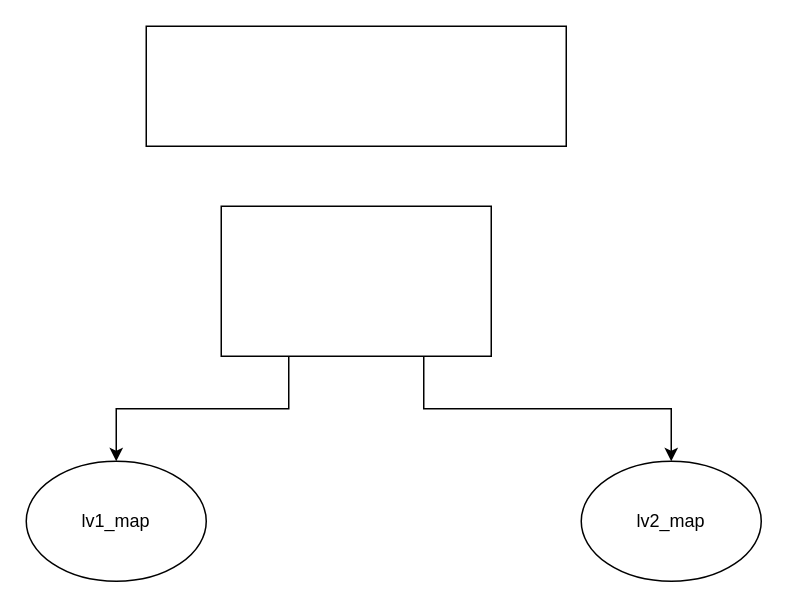
The diagram is 788 pixels wide and 608 high, and some of its shapes have lost their labels. The shapes that lost their labels are listed below. From the top down, each one's centre as x and y in pixels, then its label:
At (x=355, y=85): "Task: Mapping".
At (x=355, y=280): "Slam node gmapping (Switch to 3d lidar to ensure low obstacle scanning)".
